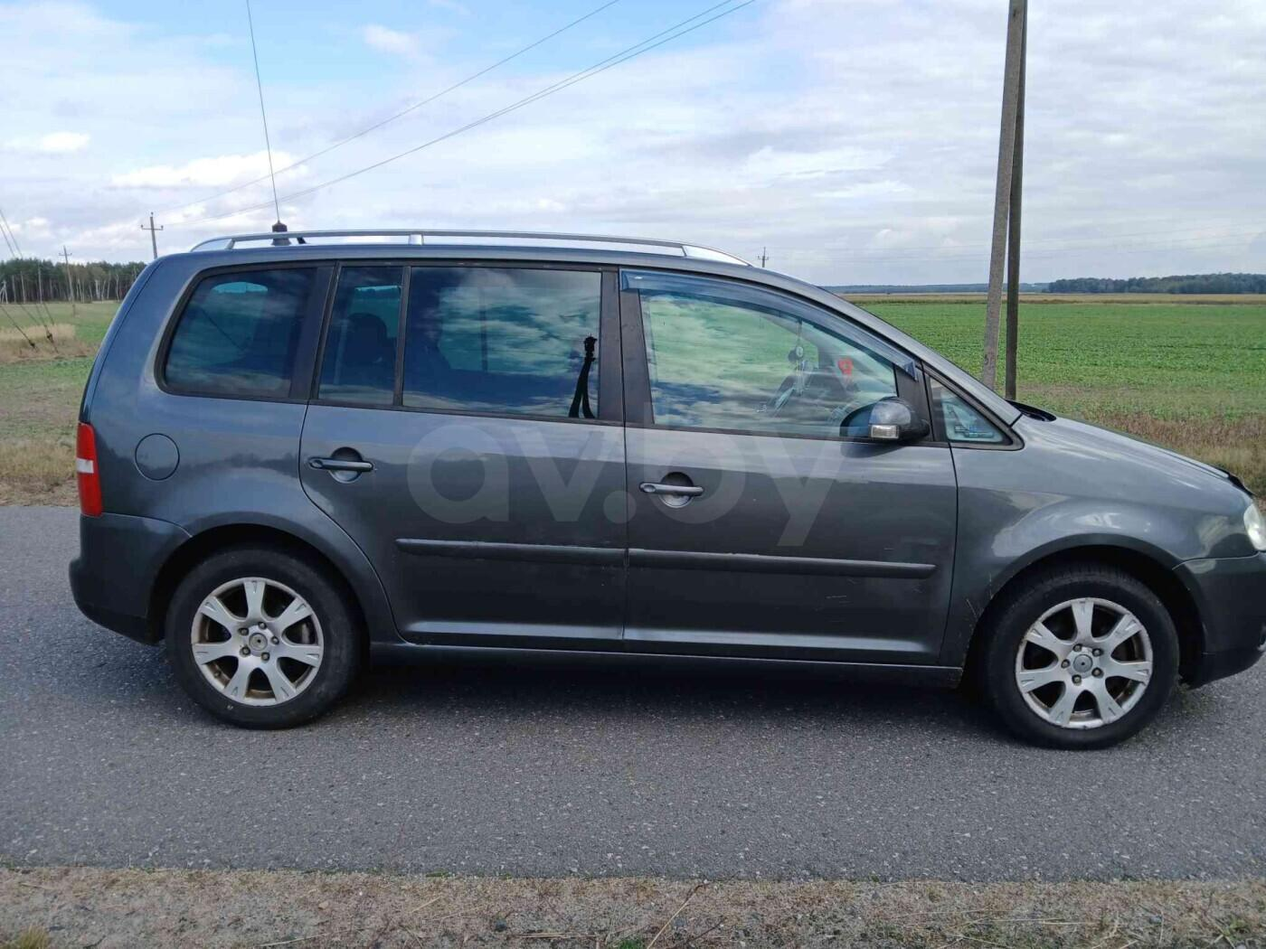Touran_2003-2006: (66, 240, 1266, 748)
